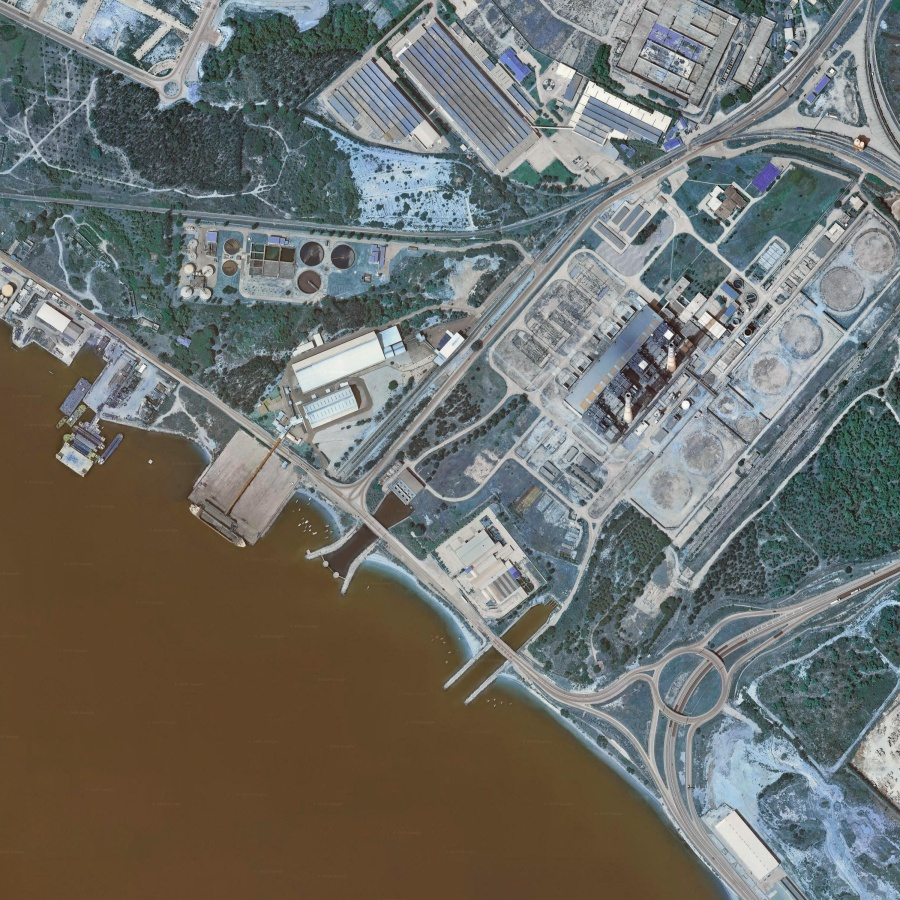PowerPlant: (524, 176, 898, 516)
